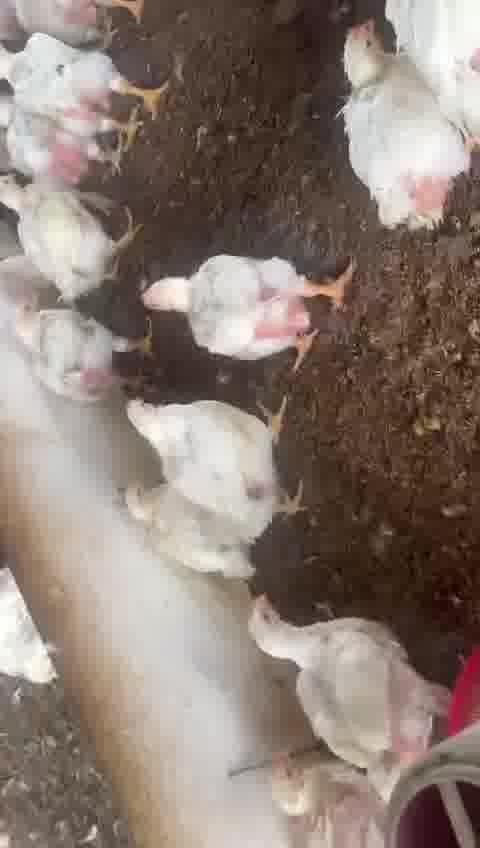AbNormal: (339, 24, 461, 232)
Normal: (242, 597, 445, 763), (125, 395, 313, 519), (140, 257, 345, 356), (0, 44, 162, 140), (2, 175, 129, 293), (14, 299, 157, 397), (119, 484, 269, 571)
